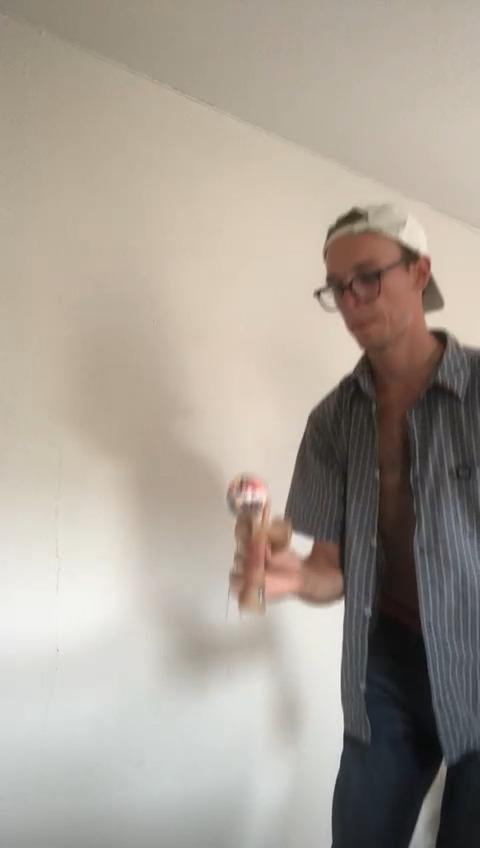kendama_ball: (226, 472, 268, 517)
